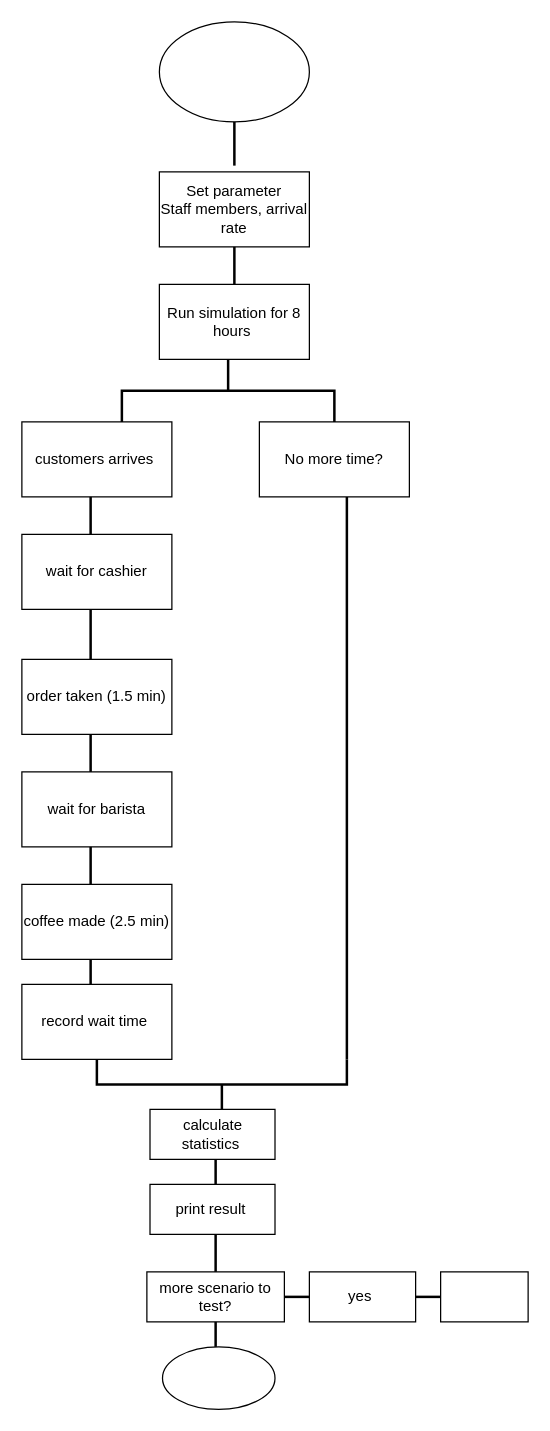
The diagram is 550 pixels wide and 1431 high, and some of its shapes have lost their labels. Here are the shapes that lost their labels. From the top down, the centre of each, then its label:
At point 233,71: "START".
At point 483,1296: "loop".
At point 218,1377: "End".
